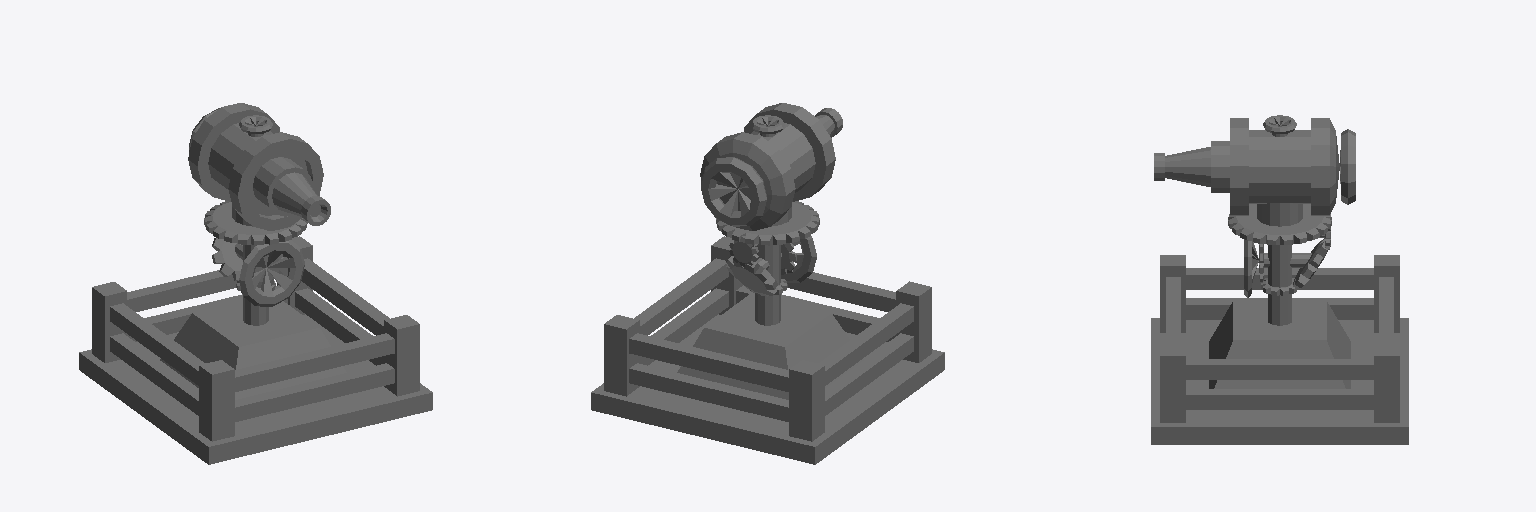
File: TurretMesh.obj
3 views of the same model, side by side, from view 1: azimuth 30°, elevation 25°; view 2: azimuth 150°, elevation 25°; view 3: azimuth 270°, elevation 25° (orthographic).
Parts seen in each view (by area): view 1: Base2, Turret2; view 2: Base2, Turret2; view 3: Base2, Turret2.
Boxes of the visible parts, box(x1,y1,x2,y2) form: Base2: box(79, 236, 432, 464); Turret2: box(188, 103, 330, 325); Base2: box(591, 236, 944, 464); Turret2: box(700, 103, 842, 325); Base2: box(1151, 255, 1408, 444); Turret2: box(1154, 115, 1355, 325).
Size of the model in its own units: 18 by 20.59 by 18.